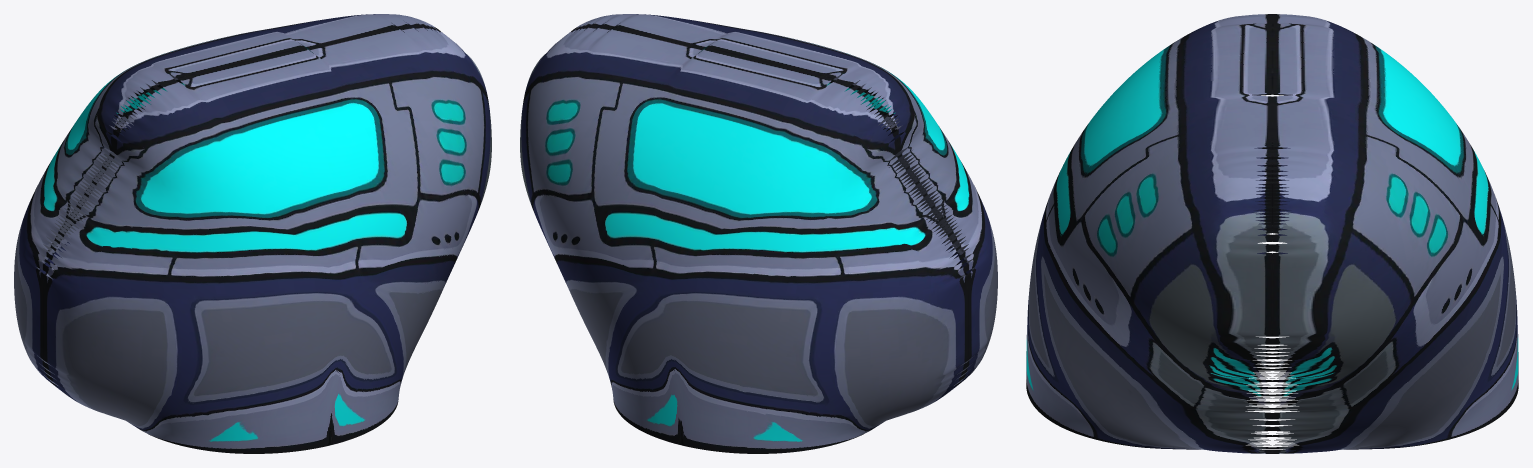
Rendered from field_console.glb.
3 renders of one model, left to right at view 1: azimuth 30°, elevation 25°; view 2: azimuth 150°, elevation 25°; view 3: azimuth 270°, elevation 25°, orthographic. The views are drawn at different scales.
Parts seen in each view (by area): view 1: field_console; view 2: field_console; view 3: field_console.
Part boxes in pixels (x1=…): field_console: x1=14, y1=14, x2=491, y2=453; field_console: x1=520, y1=14, x2=997, y2=453; field_console: x1=1026, y1=14, x2=1518, y2=453.
Size of the model in its own units: 0.989 by 0.6625 by 0.8754.
1 material, 1 textured.
